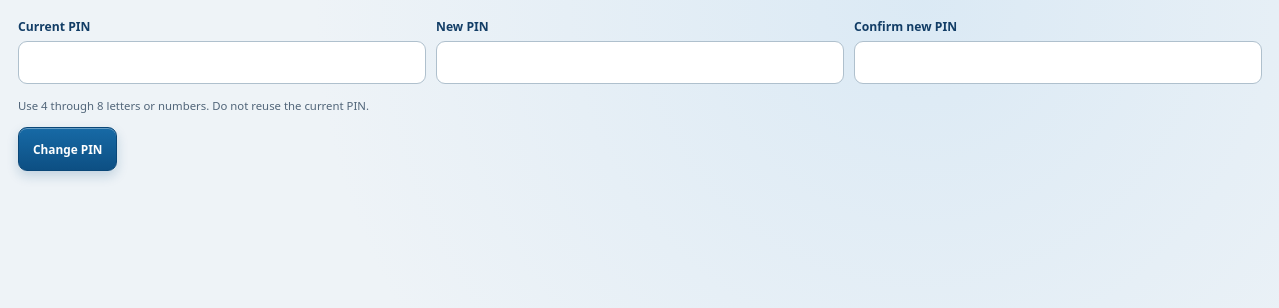
Test: Change PIN form › requires matching new PIN values and clears fields after success
The image size is (1279, 308).
Type "1234" into the password field labelled "Current PIN".
click(222, 62); type("1234")  # box 18,41 -> 426,84
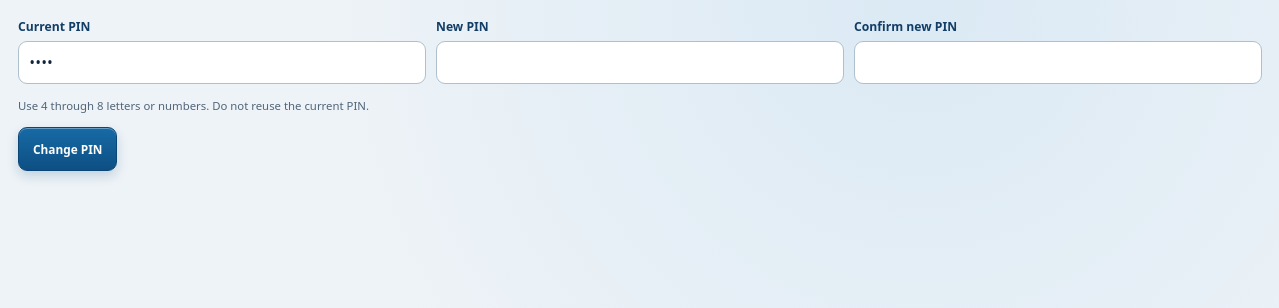
Type "5678" into the password field labelled "New PIN".
click(640, 62); type("5678")  # box 436,41 -> 844,84
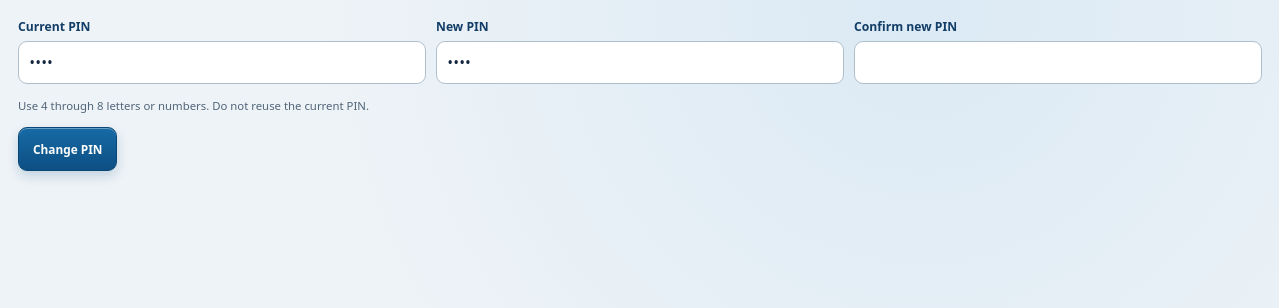
Type "5678" into the password field labelled "Confirm new PIN".
click(1058, 62); type("5678")  # box 854,41 -> 1262,84
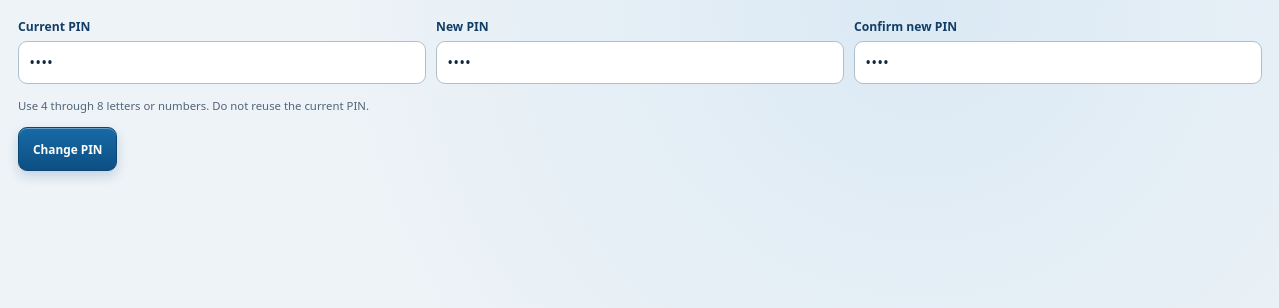
Click the button "Change PIN".
click(68, 149)  # box 18,127 -> 117,171
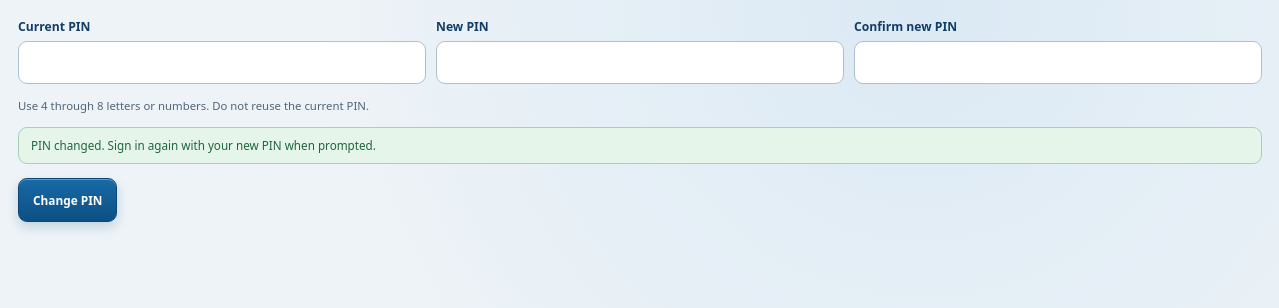
Result: the message shows "PIN changed" at 31,138 -> 376,153
Result: the password field labelled "Current PIN" is empty at 18,41 -> 426,84
Result: the password field labelled "New PIN" is empty at 436,41 -> 844,84
